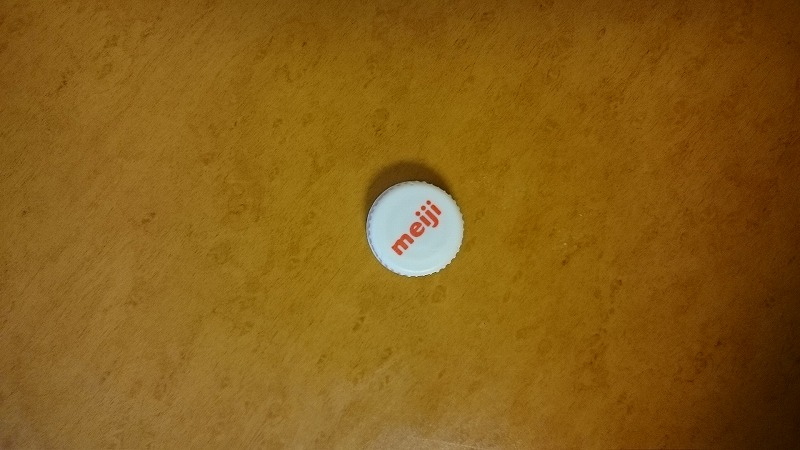B: (362, 178, 473, 279)
